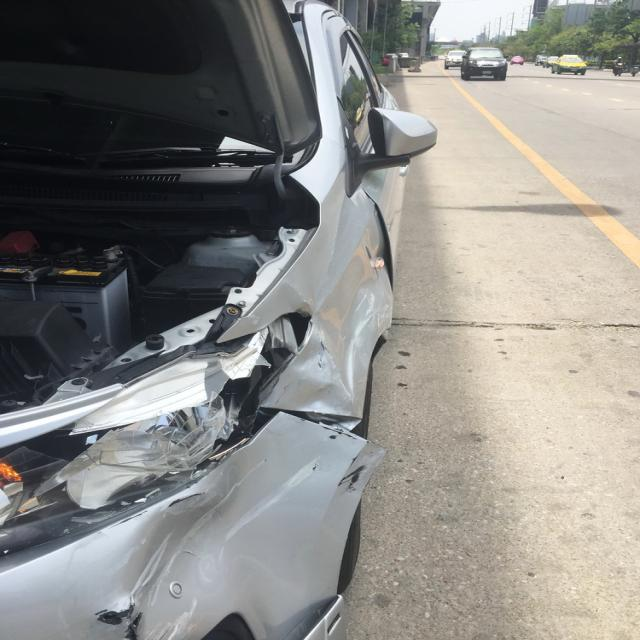crack: (98, 604, 145, 640)
dent: (122, 446, 294, 640), (291, 260, 380, 411)
lamp broken: (0, 313, 310, 572)
scratch: (342, 458, 371, 496)
